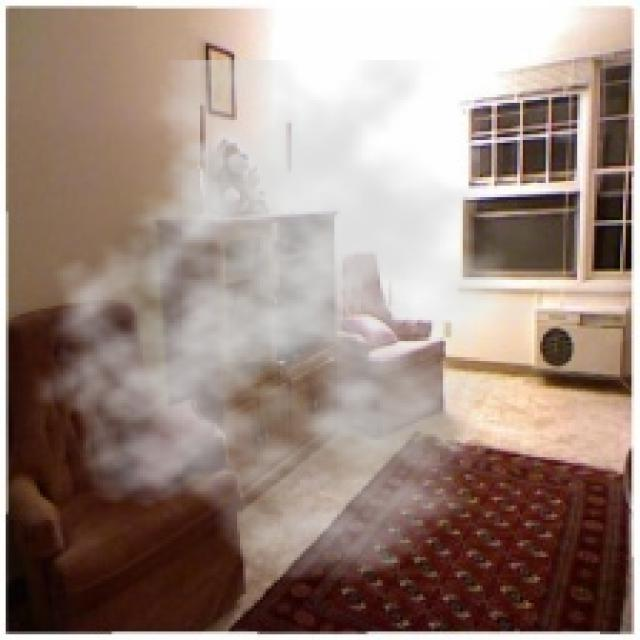smoke: (31, 60, 568, 583)
